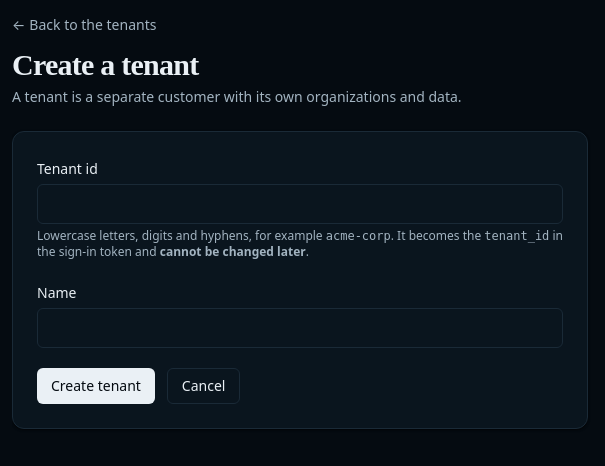
it: CreateTenantPage › refuses the id a
Type "a" into the field labelled "Tenant id". click: (300, 204)
box: left=37, top=184, right=563, bottom=224
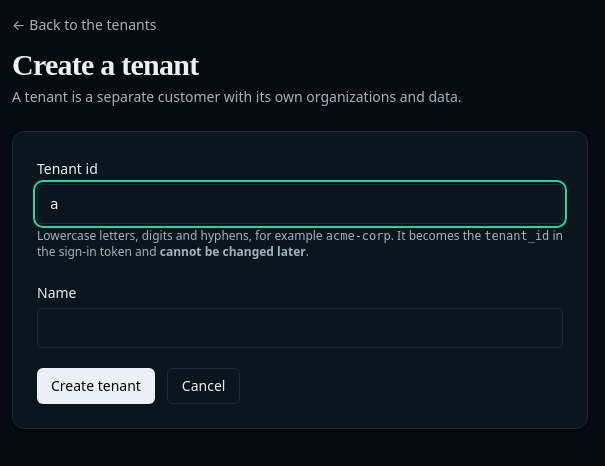
Type "Name" into the field labelled "Name". click: (300, 328)
box: left=37, top=308, right=563, bottom=348
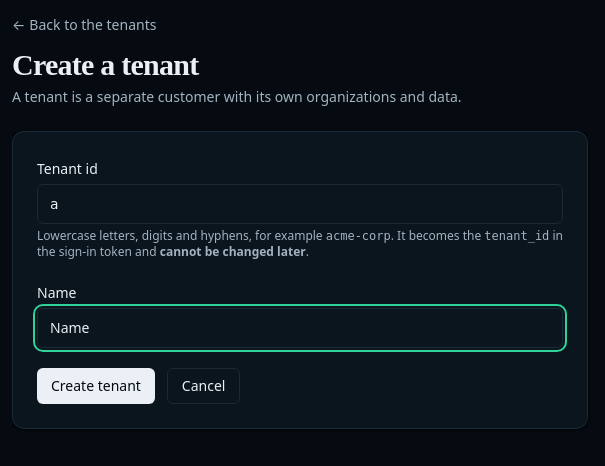
Click the button "Create tenant". click: click(96, 386)
box: left=37, top=368, right=155, bottom=404
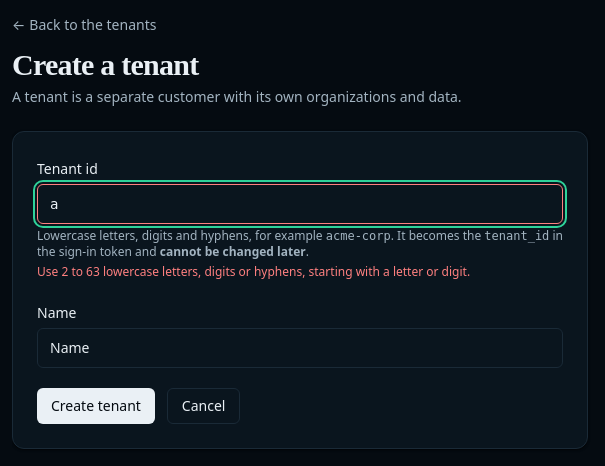
Expected: the text "Use 2 to 63 lowercase letters" is shown, left=37, top=263, right=470, bottom=280
